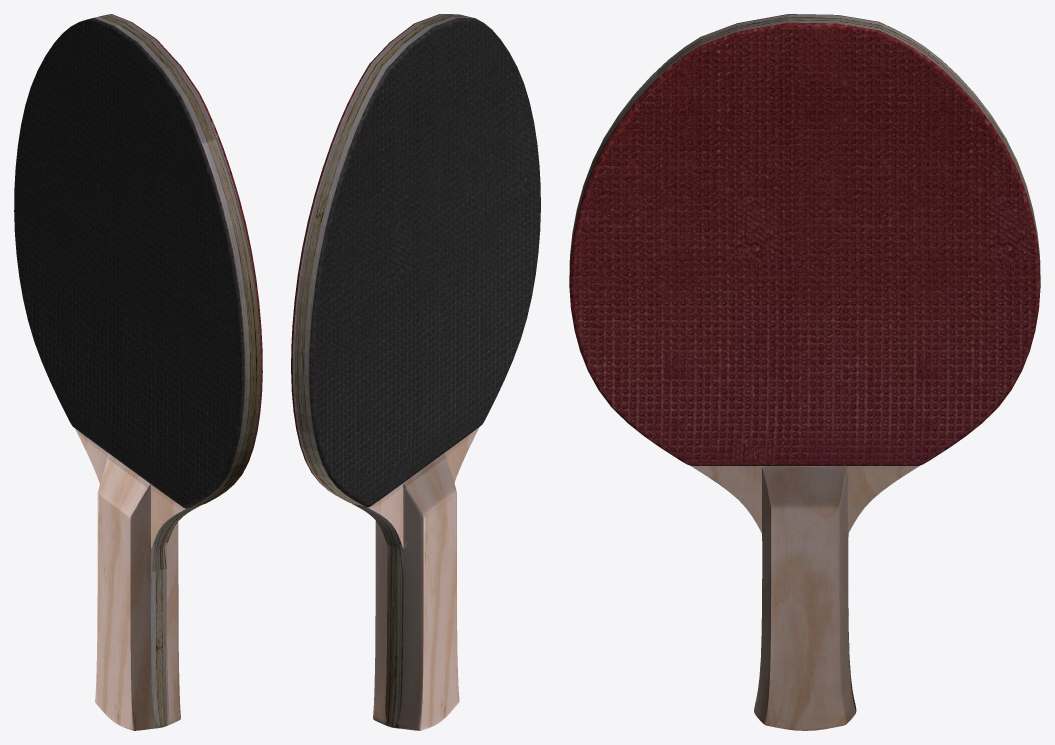
Rendered from paddle_vik_a_frammenti.glb.
The picture shows the model from 3 angles, left to right: view 1: azimuth 30°, elevation 25°; view 2: azimuth 150°, elevation 25°; view 3: azimuth 270°, elevation 25°; orthographic projection. The views are drawn at different scales.
Parts seen in each view (by area): view 1: face_1.001, manico.001, bordi.001, face_2.001; view 2: face_1.001, manico.001, bordi.001, face_2.001; view 3: face_2.001, manico.001, bordi.001.
Part boxes in pixels (x1=…): face_1.001: x1=14, y1=18, x2=244, y2=508; manico.001: x1=75, y1=428, x2=201, y2=730; bordi.001: x1=91, y1=14, x2=261, y2=507; face_2.001: x1=111, y1=14, x2=262, y2=491; face_1.001: x1=309, y1=18, x2=540, y2=506; manico.001: x1=352, y1=427, x2=479, y2=730; bordi.001: x1=292, y1=14, x2=474, y2=506; face_2.001: x1=291, y1=14, x2=439, y2=495; face_2.001: x1=569, y1=22, x2=1040, y2=465; manico.001: x1=690, y1=465, x2=920, y2=730; bordi.001: x1=569, y1=14, x2=1040, y2=283.
Size of the model in its own units: 2.11 by 28.75 by 17.52.
Materials: 4 (4 with a texture image).
